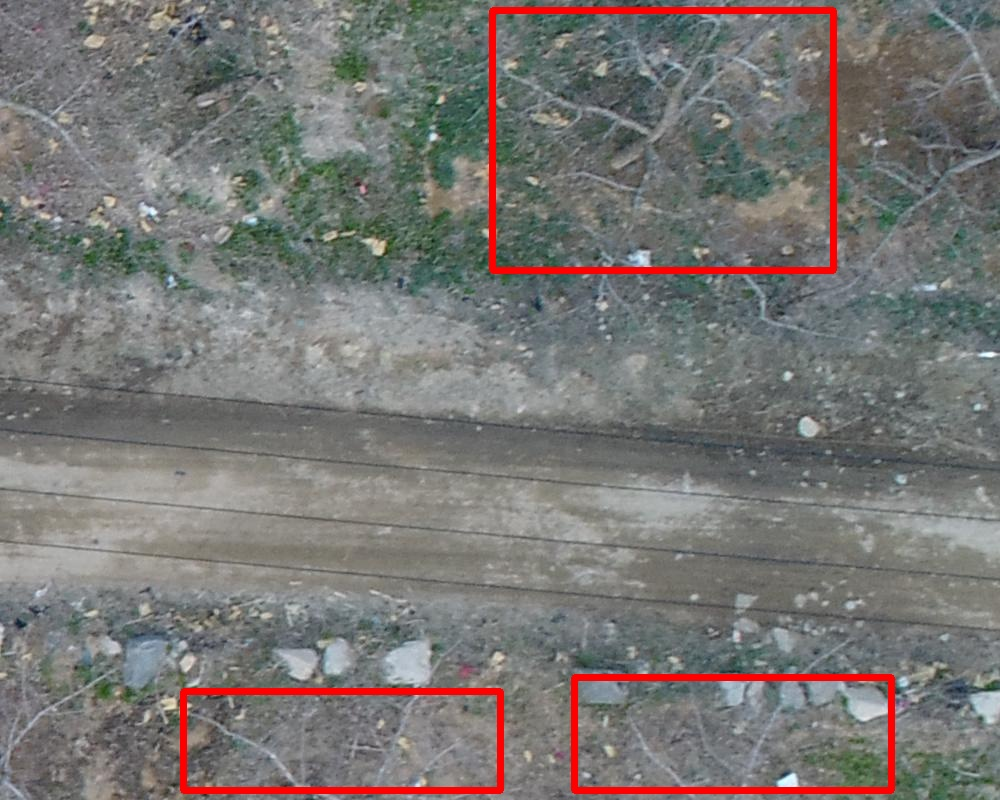apple: (492, 10, 833, 270), (574, 677, 891, 790), (183, 691, 500, 790)
